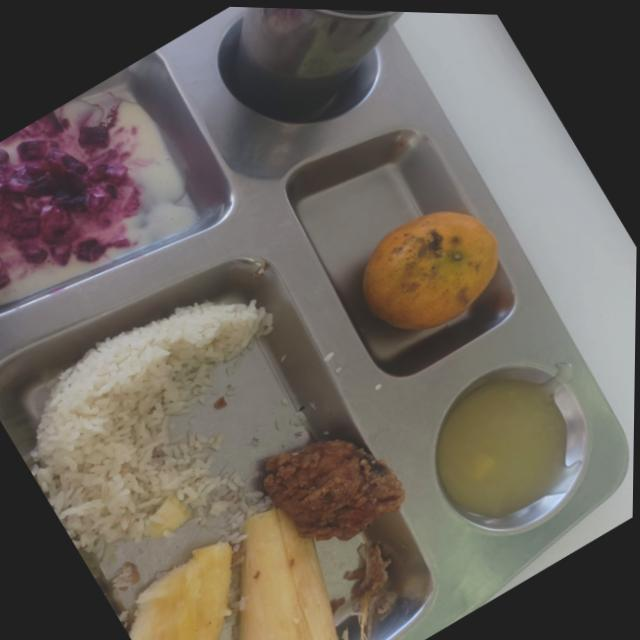arroz: (31, 301, 271, 556), (209, 437, 221, 449), (159, 528, 165, 536), (183, 515, 188, 520), (203, 440, 206, 442)
mandarina: (362, 212, 497, 330)
pescado frito: (263, 440, 404, 540), (348, 545, 389, 601)
yuca: (236, 508, 337, 639), (130, 545, 231, 639)
